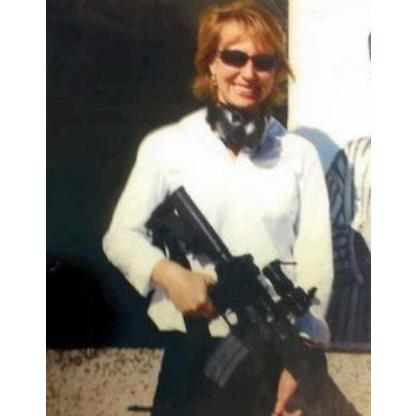gun: (141, 186, 330, 388)
